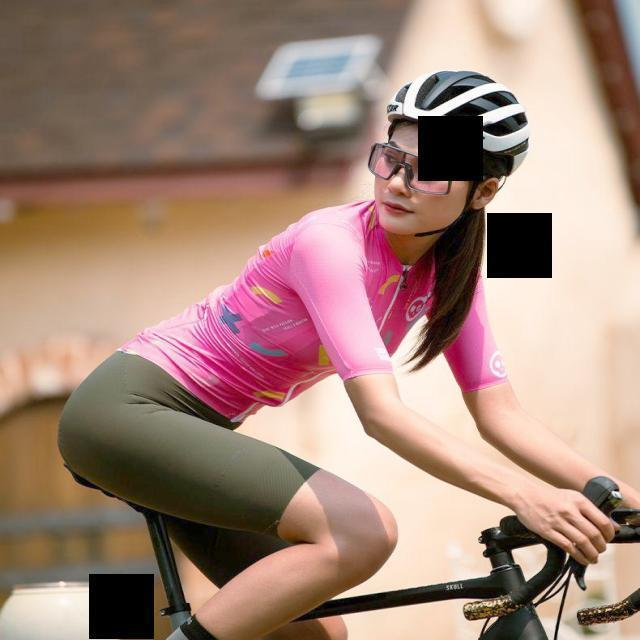helmet: (385, 68, 530, 177)
